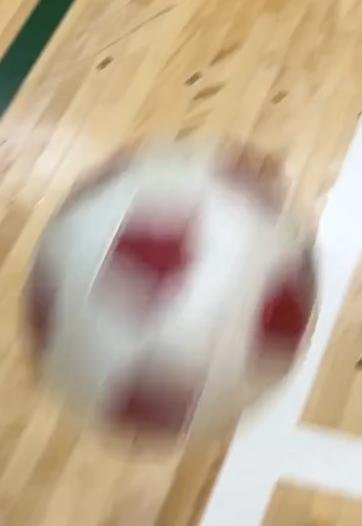Sports-Ball: (42, 134, 306, 423)
